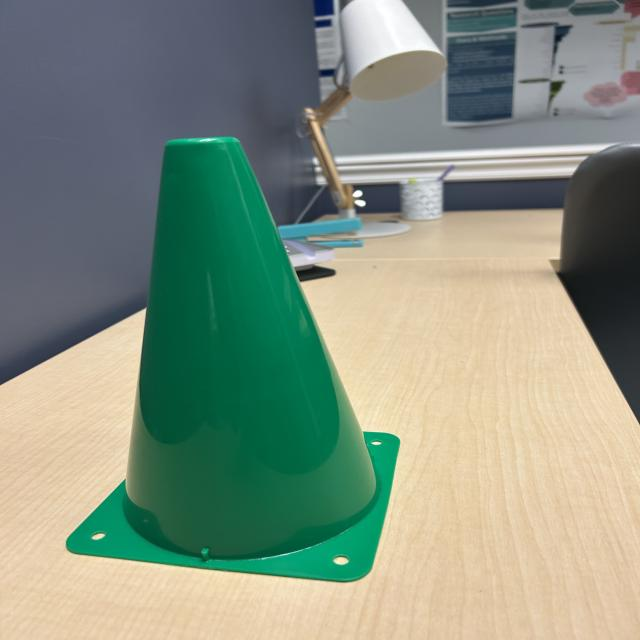green cone: (61, 133, 407, 591)
